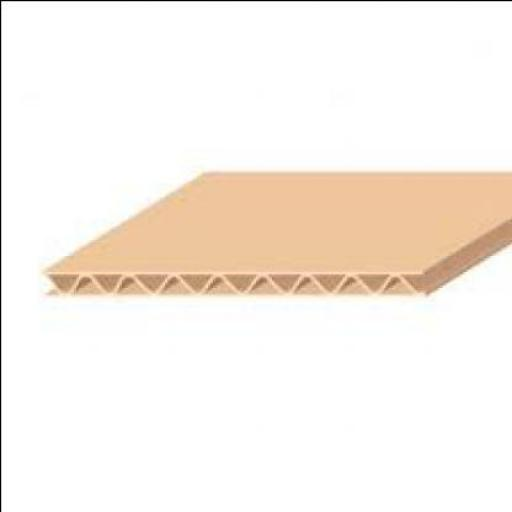cardboard: (40, 168, 510, 294)
